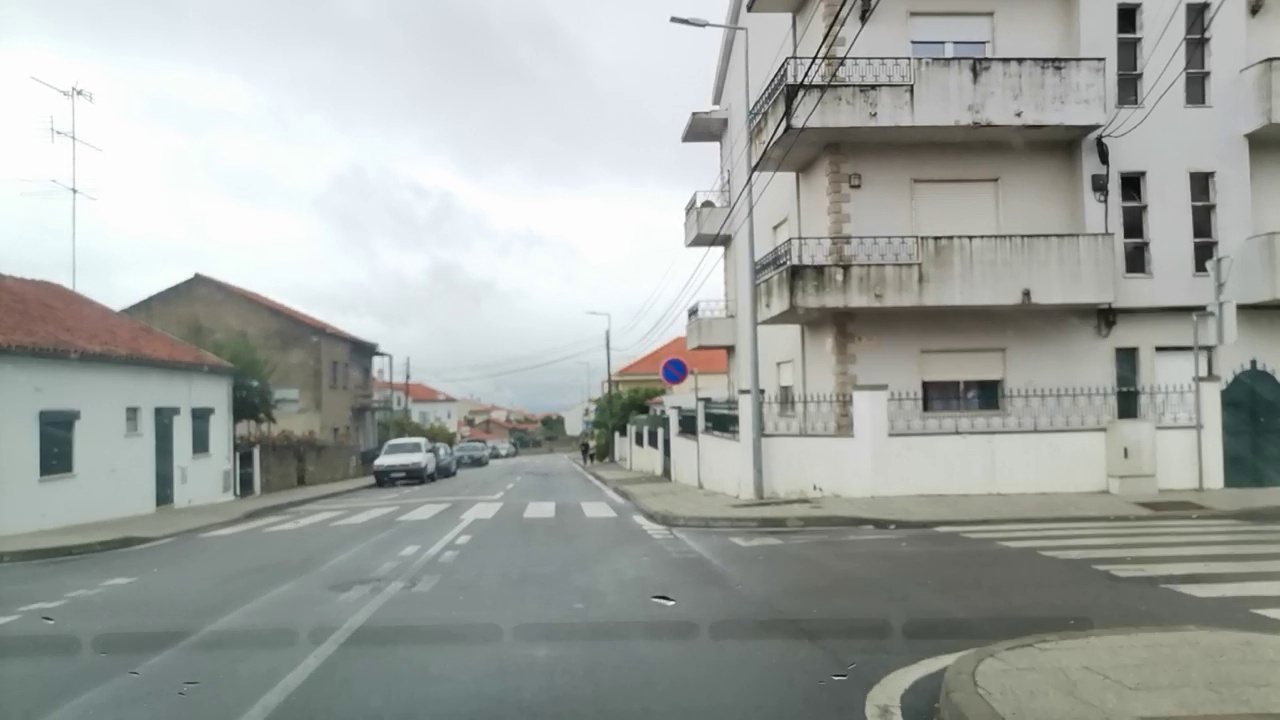Stairs: (932, 518, 1280, 620), (199, 499, 616, 539)
